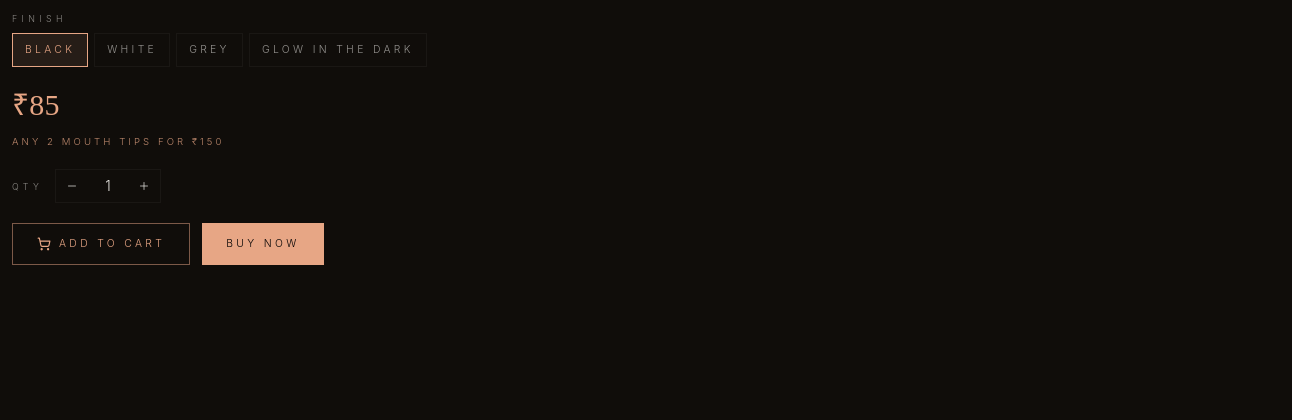
product → cart › adds a mouth tip, suggests a second for ₹150, and applies the offer
The image size is (1292, 420).
Expected: the text "Any 2 mouth tips for ₹150" is shown, [12,136,224,147]
Step 1. Click the button "Add to Cart" → coordinates (101, 244), box [12,223,190,265]
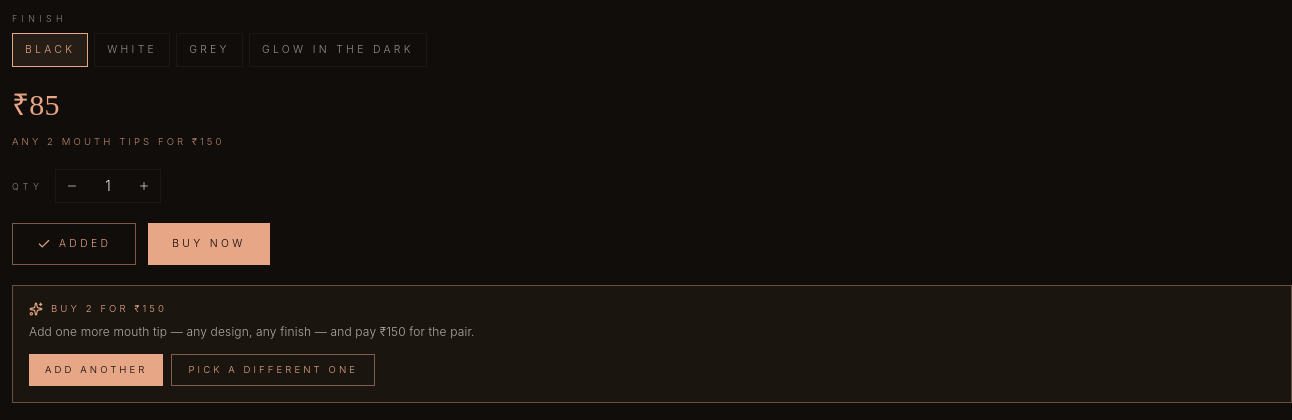
Result: the text "Buy 2 for ₹150" is shown at [29,302,167,316]
Step 2. Click the button "Add another" → coordinates (96, 370), box [29,354,164,386]
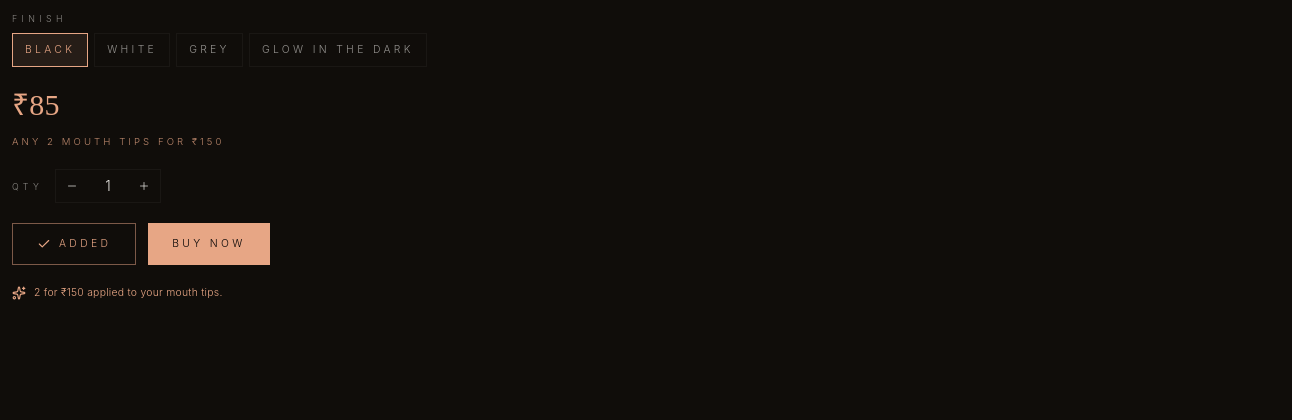
Result: the text "2 for ₹150 applied to your mouth tips." is shown at [12,286,223,300]
